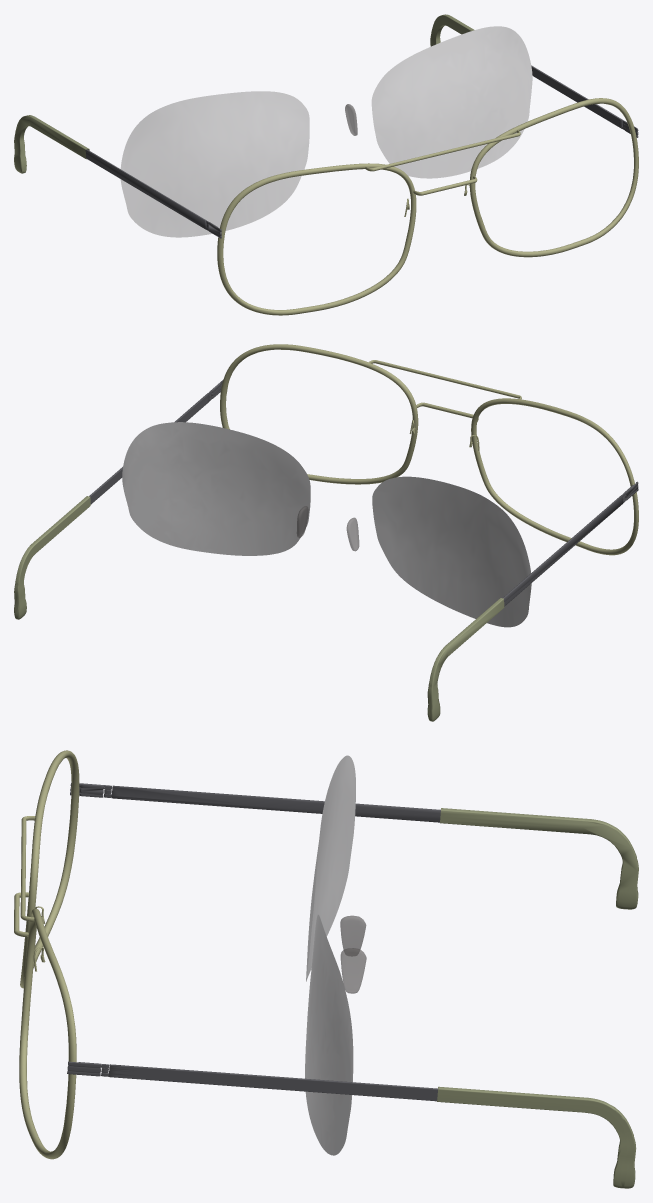
Rendered from glasses.glb.
3 renders of one model, top to bottom at view 1: azimuth 30°, elevation 25°; view 2: azimuth 150°, elevation 25°; view 3: azimuth 270°, elevation 25°, orthographic. The views are drawn at different scales.
Visible parts, largest first — view 1: BezierCurve.001_Glass02_0, Cylinder_frame_0; view 2: BezierCurve.001_Glass02_0, Cylinder_frame_0, Cylinder.002_nose_protector_0; view 3: Cylinder_frame_0, BezierCurve.001_Glass02_0, Cylinder.002_nose_protector_0.
Part boxes in pixels (x1=…): BezierCurve.001_Glass02_0: x1=120, y1=26, x2=532, y2=237; Cylinder_frame_0: x1=14, y1=14, x2=638, y2=315; BezierCurve.001_Glass02_0: x1=122, y1=422, x2=531, y2=627; Cylinder_frame_0: x1=14, y1=344, x2=638, y2=721; Cylinder.002_nose_protector_0: x1=296, y1=506, x2=359, y2=551; Cylinder_frame_0: x1=14, y1=750, x2=638, y2=1188; BezierCurve.001_Glass02_0: x1=305, y1=755, x2=355, y2=1155; Cylinder.002_nose_protector_0: x1=340, y1=915, x2=366, y2=993.
Bounding box in the file's own units: 1.09e+07 × 3390964 × 1.01e+07.
3 materials, 3 textured.
